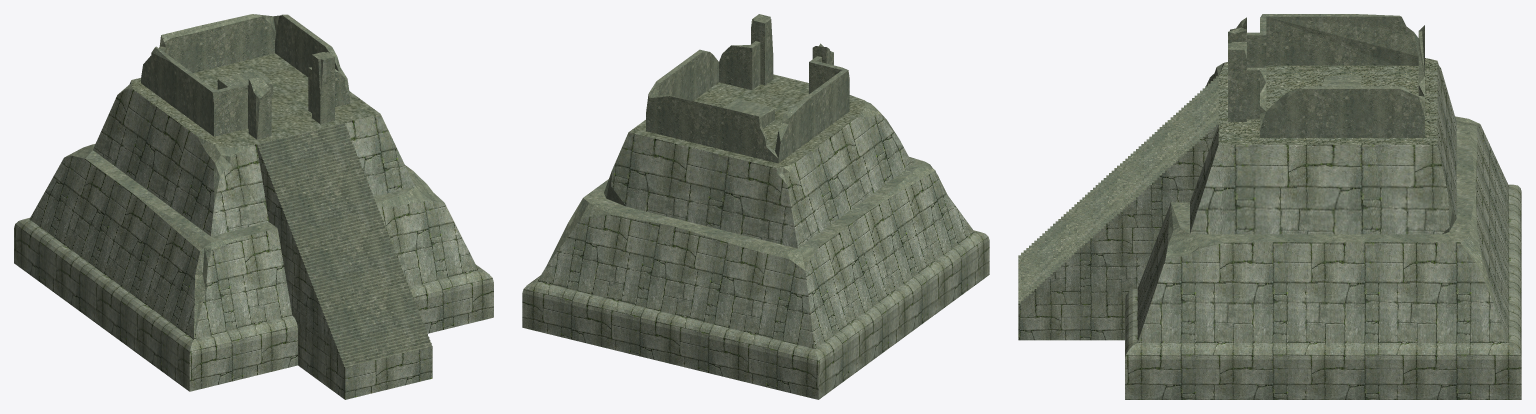
File: thm_nboo_gungan_imprv_building_s01_l0.fbx
3 renders of one model, left to right at view 1: azimuth 30°, elevation 25°; view 2: azimuth 150°, elevation 25°; view 3: azimuth 270°, elevation 25°, orthographic. The views are drawn at different scales.
Parts seen in each view (by area): view 1: mesh_node; view 2: mesh_node; view 3: mesh_node.
Part boxes in pixels (x1,y1,x2,y2): mesh_node: (14,14,493,399); mesh_node: (522,14,989,399); mesh_node: (1018,14,1521,399).
Size of the model in its own units: 31.25 by 25 by 39.65.
